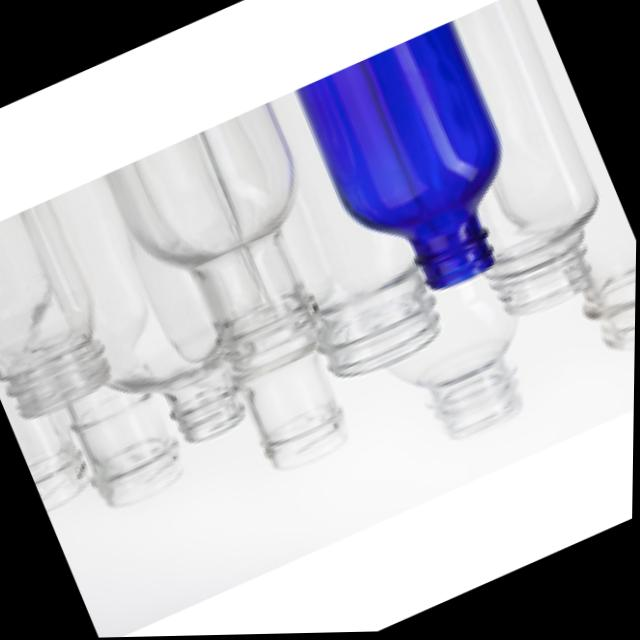glass_beverage_bottles: (289, 19, 552, 317), (101, 103, 358, 394), (0, 204, 127, 430)
